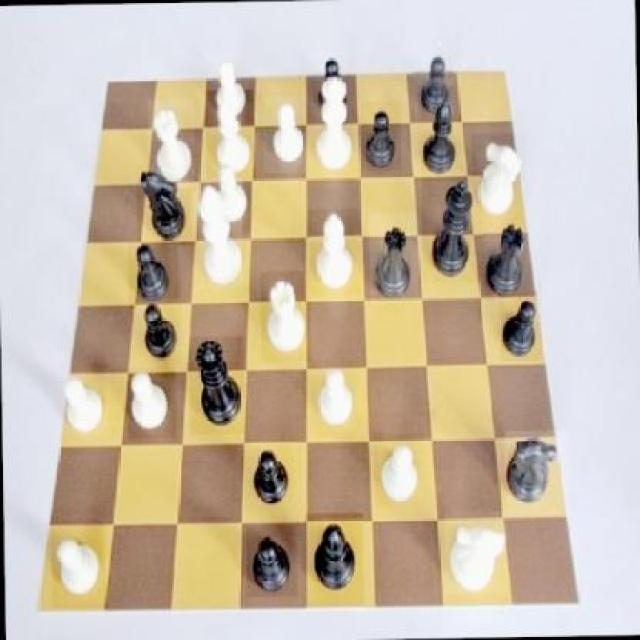bishop: (304, 514, 364, 611), (419, 86, 463, 177)
black-bishop: (421, 177, 484, 283)
black-king: (504, 431, 568, 517), (137, 162, 194, 246)
black-knight: (246, 526, 297, 597), (129, 242, 180, 309), (248, 442, 294, 511), (500, 290, 543, 362), (137, 298, 180, 366), (310, 51, 352, 120), (362, 102, 402, 172), (414, 48, 453, 119)
black-pawn: (190, 336, 246, 434)
black-queen: (369, 212, 420, 305), (478, 218, 532, 296)
black-rook: (309, 209, 362, 296), (204, 89, 253, 179)
white-bishop: (197, 172, 244, 288)
white-king: (444, 510, 508, 594), (471, 134, 526, 228)
white-knight: (52, 525, 108, 609), (374, 432, 424, 506), (263, 97, 310, 173), (128, 368, 177, 440), (57, 371, 110, 435), (210, 157, 252, 234), (314, 362, 358, 434), (208, 54, 250, 124)
white-pawn: (306, 72, 360, 177)
white-queen: (258, 270, 311, 362), (148, 98, 195, 188)
